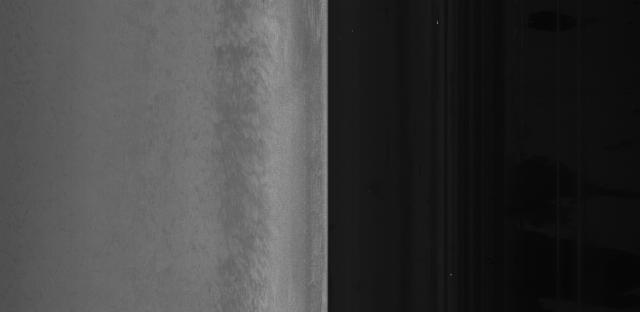silk_spot: (215, 119, 288, 215)
